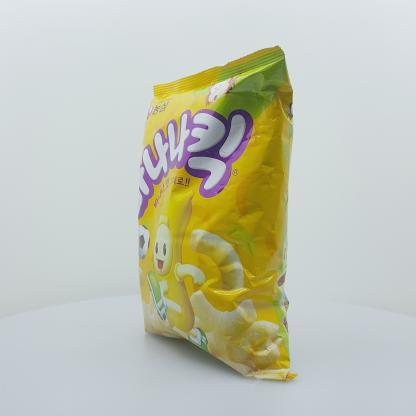Plastic Packaging: (123, 41, 315, 390)
